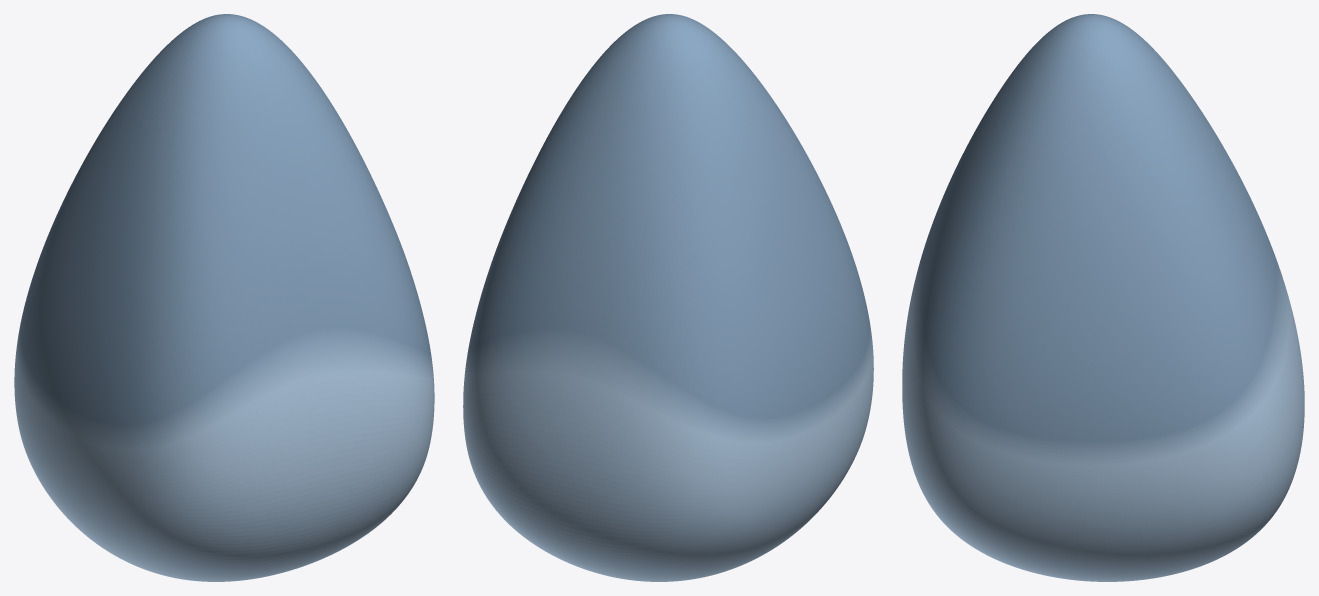
Rendered from droplet.fbx.
3 renders of one model, left to right at view 1: azimuth 30°, elevation 25°; view 2: azimuth 150°, elevation 25°; view 3: azimuth 270°, elevation 25°, orthographic. The views are drawn at different scales.
Visible parts, largest first — view 1: Cube; view 2: Cube; view 3: Cube.
Boxes of the visible parts, x1=… form: Cube: x1=14, y1=14, x2=434, y2=581; Cube: x1=463, y1=14, x2=873, y2=581; Cube: x1=902, y1=14, x2=1304, y2=581.
Bounding box in the file's own units: 172 × 267 × 180.
